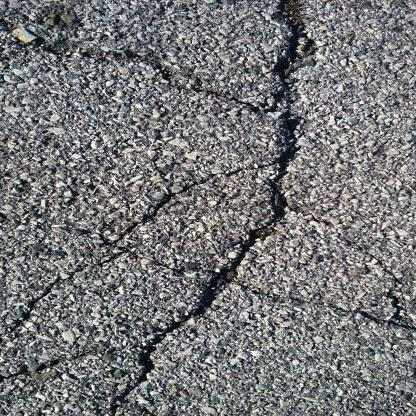Cracks: (104, 0, 322, 415), (6, 153, 416, 334), (0, 8, 279, 119)
